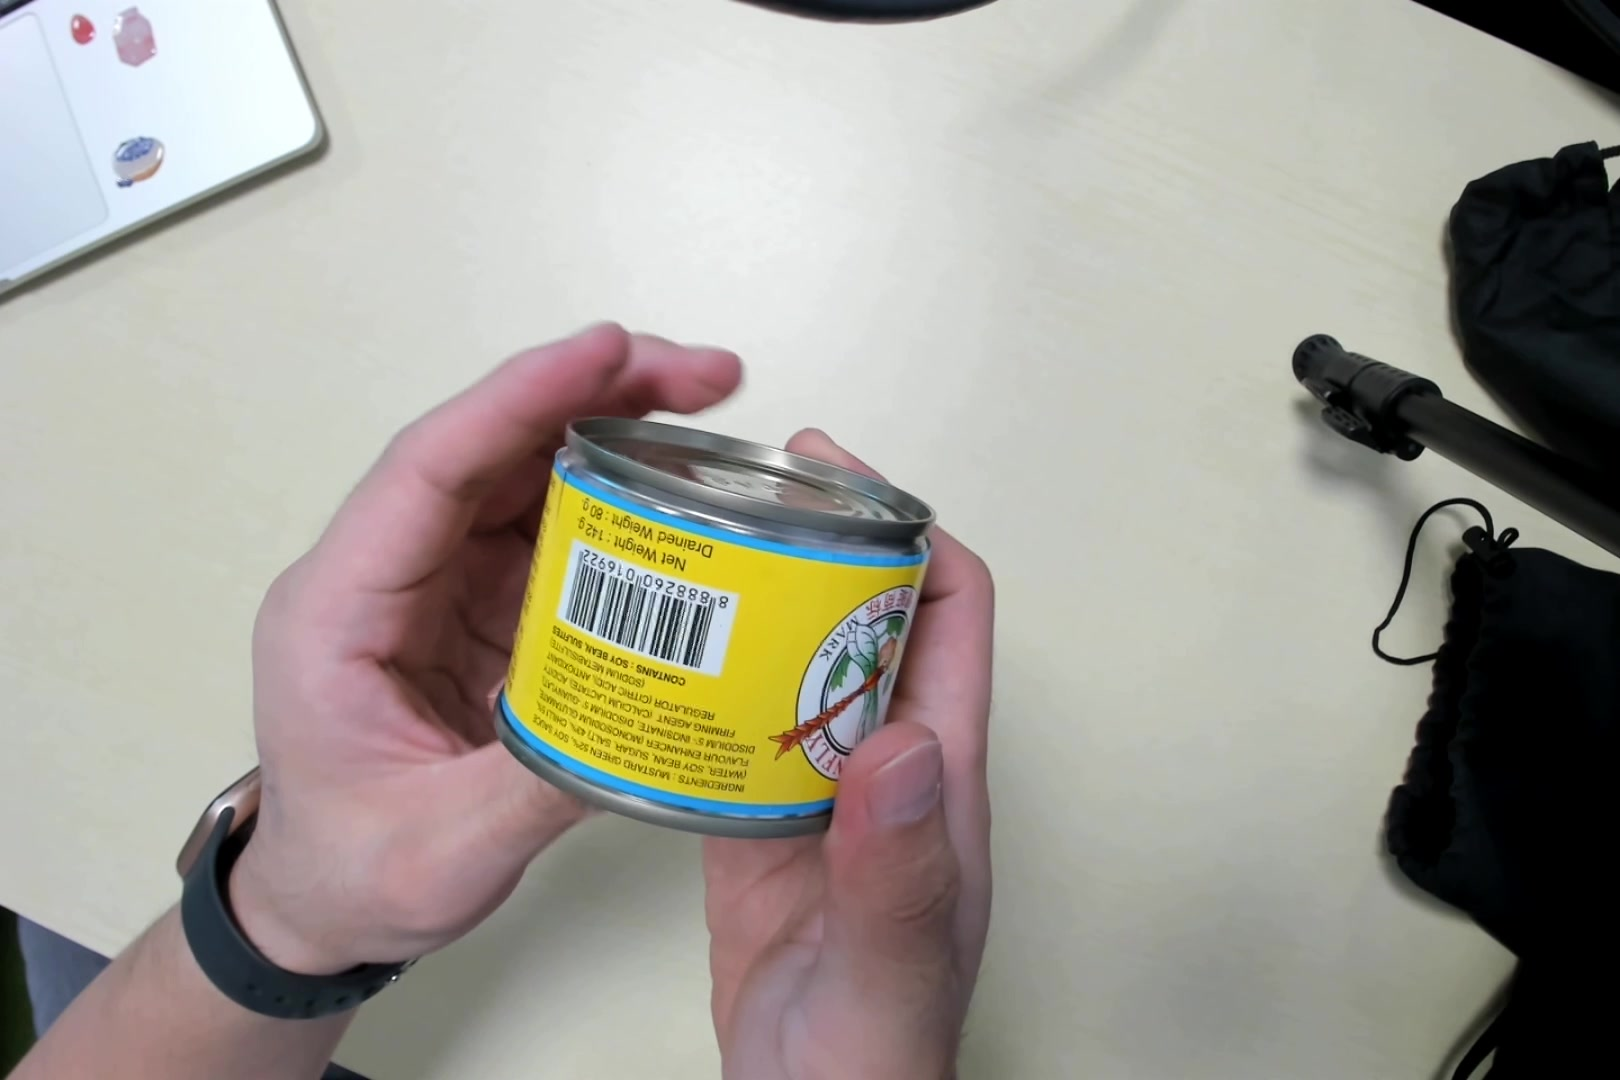CannedFruitsCocktail_0-99g_Halal_NonHealthy: (510, 430, 915, 808)
